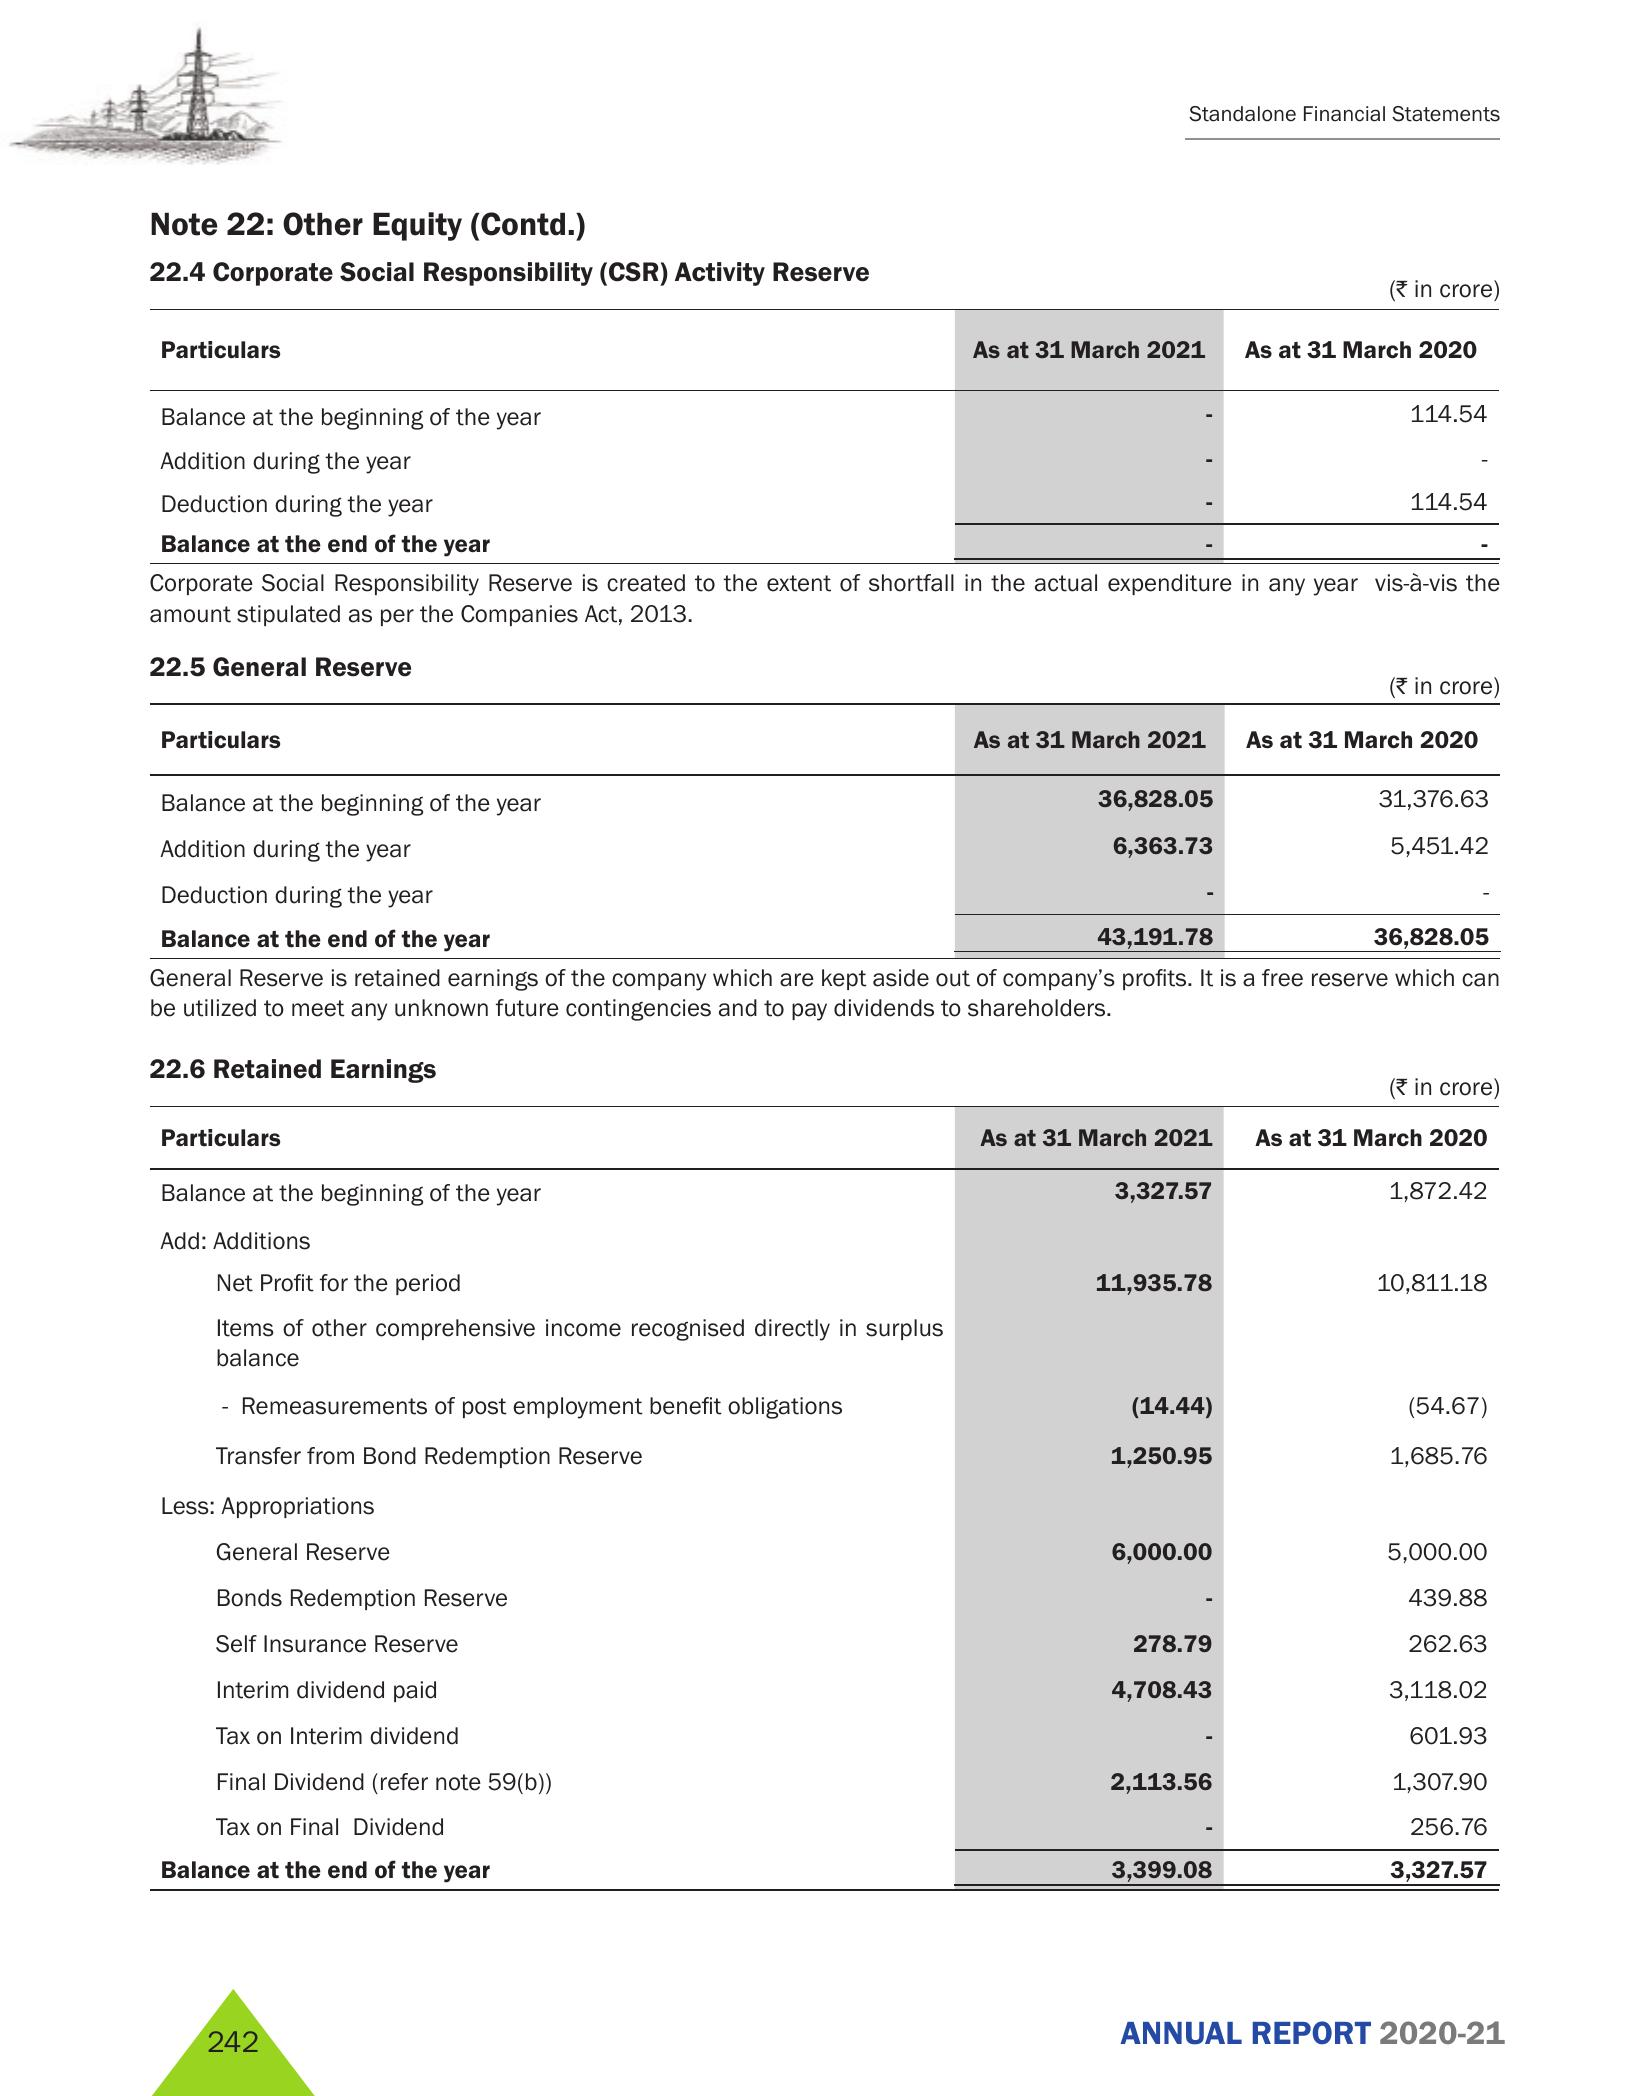Footer: (0, 1953, 1650, 2096)
Header: (0, 0, 1650, 175)
Table: (117, 1102, 1528, 1888), (99, 306, 1499, 556), (117, 711, 1511, 956)
